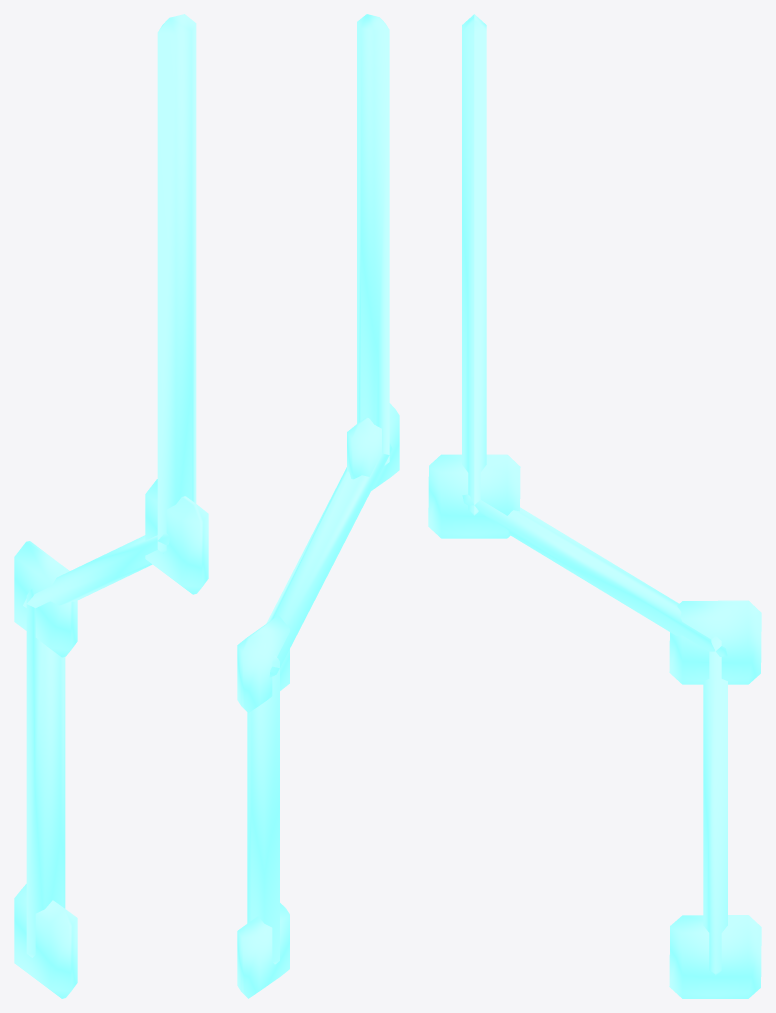
File: Estela_PiernaIzq_Neon.fbx
The picture shows the model from 3 angles, left to right: view 1: azimuth 30°, elevation 25°; view 2: azimuth 150°, elevation 25°; view 3: azimuth 270°, elevation 25°; orthographic projection. The views are drawn at different scales.
Parts seen in each view (by area): view 1: Estela_PiernaIzq_Neon; view 2: Estela_PiernaIzq_Neon; view 3: Estela_PiernaIzq_Neon.
Part boxes in pixels (x1,y1,x2,y2): Estela_PiernaIzq_Neon: [14, 14, 208, 998]; Estela_PiernaIzq_Neon: [237, 14, 399, 998]; Estela_PiernaIzq_Neon: [428, 14, 761, 998].
Bounding box in the file's own units: 0.05 × 1.31 × 0.4034.
